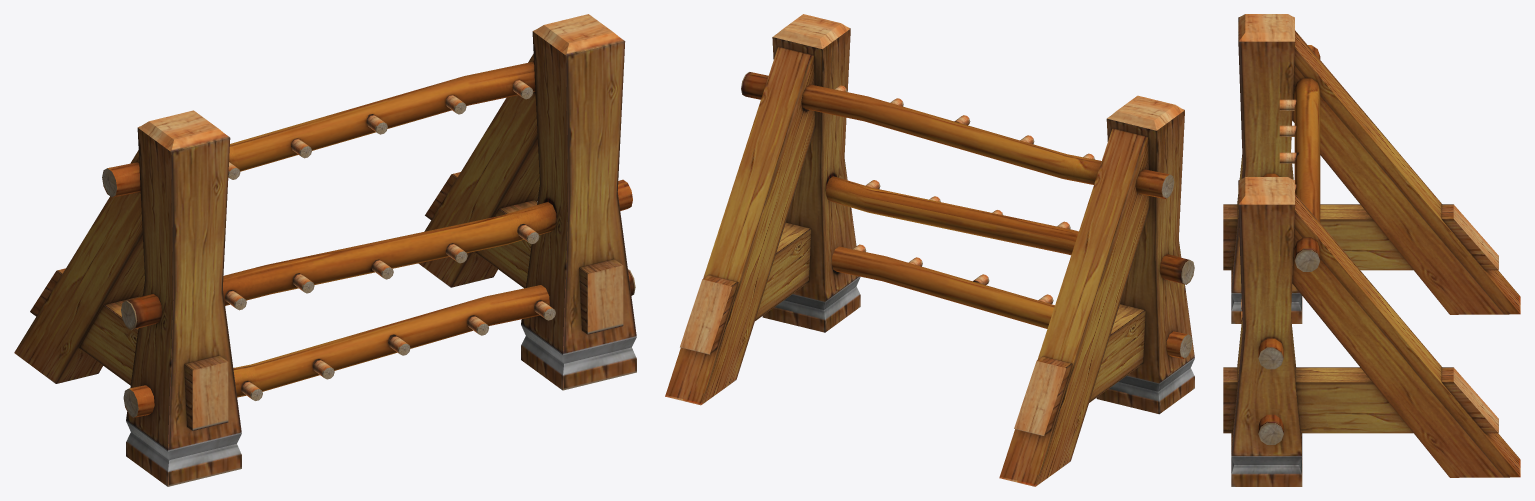
The model's file is stylised_weapon_rack.glb.
3 renders of one model, left to right at view 1: azimuth 30°, elevation 25°; view 2: azimuth 150°, elevation 25°; view 3: azimuth 270°, elevation 25°, orthographic. The views are drawn at different scales.
Visible parts, largest first — view 1: Empty; view 2: Empty; view 3: Empty.
Boxes of the visible parts, x1=… form: Empty: x1=14, y1=14, x2=636, y2=486; Empty: x1=665, y1=14, x2=1194, y2=486; Empty: x1=1223, y1=14, x2=1520, y2=486.
Size of the model in its own units: 1.07 by 0.6893 by 0.6512.
1 material, 1 textured.
